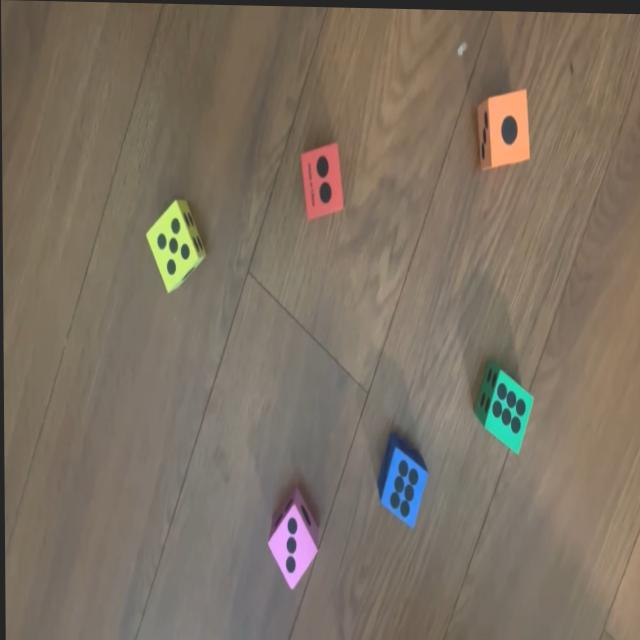blue_block: (375, 430, 427, 526)
red_block: (299, 139, 343, 218)
